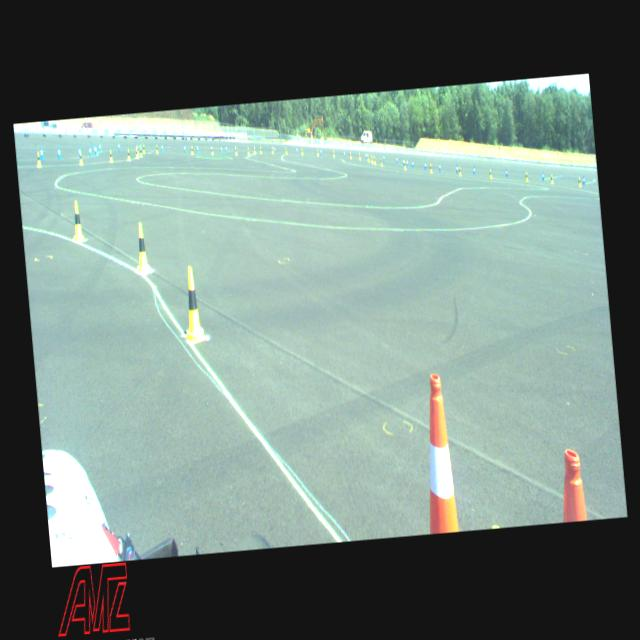blue_cone: (56, 146, 62, 158), (40, 146, 44, 160), (88, 145, 92, 156), (98, 142, 101, 152), (160, 143, 163, 152), (455, 164, 458, 173), (438, 162, 441, 171), (117, 142, 120, 150), (472, 166, 475, 174), (505, 168, 508, 176), (582, 176, 585, 184), (183, 144, 186, 152), (78, 146, 80, 157), (224, 145, 227, 152), (424, 162, 426, 170), (411, 160, 413, 168), (542, 172, 544, 180), (396, 156, 398, 164), (365, 152, 367, 160), (196, 144, 198, 152), (406, 159, 408, 167), (343, 150, 345, 157), (220, 145, 222, 152), (402, 158, 404, 165), (382, 155, 384, 161), (296, 148, 298, 154), (273, 146, 275, 152), (321, 149, 322, 154)
yellow_cone: (180, 265, 207, 342), (134, 222, 150, 270), (70, 200, 84, 241), (108, 148, 114, 162), (36, 150, 41, 166), (78, 152, 83, 164), (126, 148, 130, 160), (488, 168, 492, 178), (577, 176, 581, 186), (428, 163, 432, 173), (550, 174, 554, 183), (142, 144, 146, 153), (525, 172, 528, 182), (155, 144, 158, 154), (135, 148, 138, 158), (139, 146, 142, 156), (403, 160, 406, 170), (379, 157, 382, 166), (235, 146, 238, 155), (190, 146, 193, 154), (253, 146, 256, 154), (247, 146, 250, 154), (210, 146, 213, 154), (316, 148, 319, 156), (366, 154, 369, 162), (349, 151, 352, 159), (373, 156, 376, 164), (358, 152, 361, 160), (458, 166, 460, 176), (136, 146, 138, 156), (370, 155, 372, 163), (271, 146, 273, 154), (285, 146, 287, 154), (300, 148, 302, 155), (260, 146, 262, 152), (332, 150, 334, 156)
